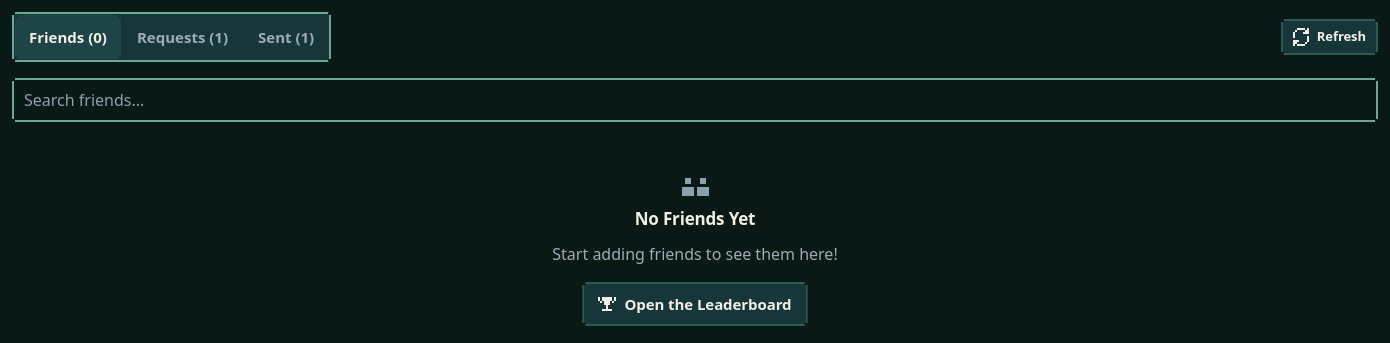
Test case: FriendsList actions › accept and decline only on requests to me; cancel only on requests from me
Click the button "Requests (1)" at (183, 37), box [123,15,242,59]
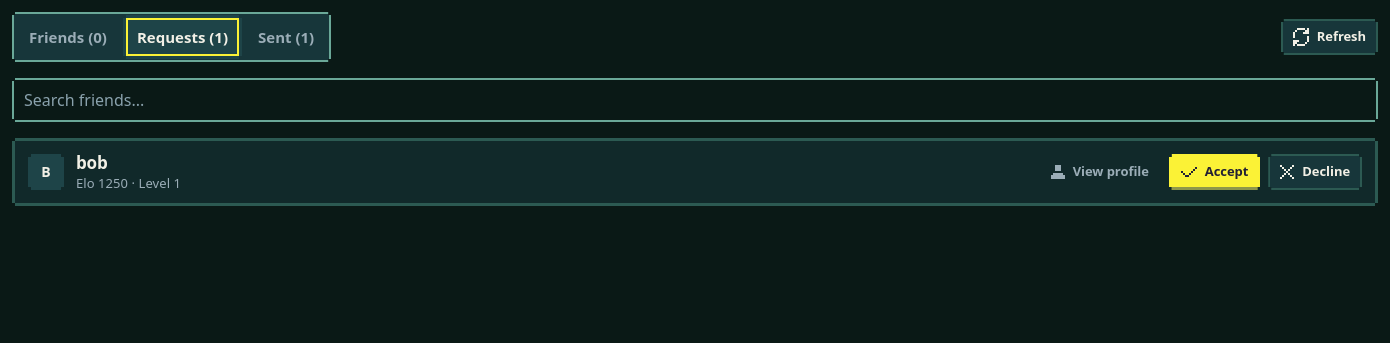
Expected: the text "bob" is shown, [76,151,108,174]
Expected: the button "Accept" is shown, [1169,150,1260,194]
Expected: the button "Decline" is shown, [1268,150,1362,194]
Click the button "Sent (1)" at (286, 37), box [244,15,328,59]
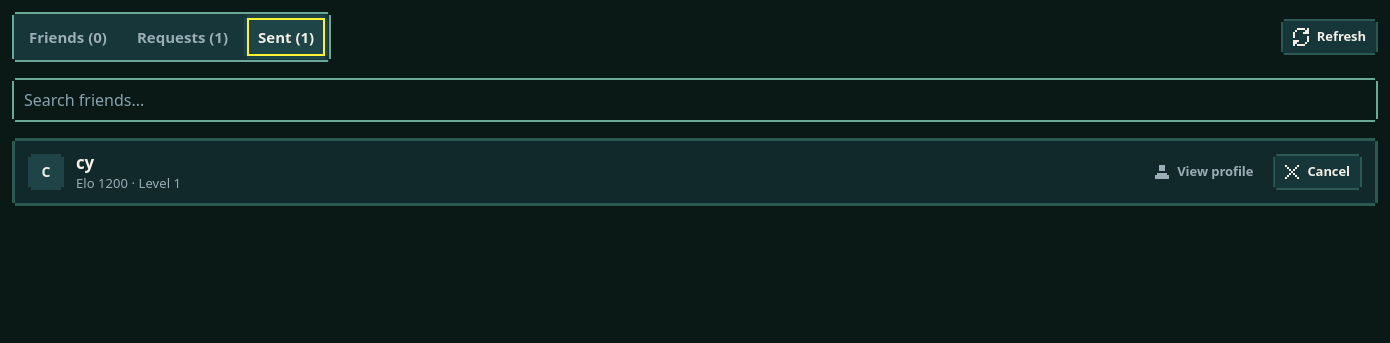
Expected: the text "cy" is shown, [76,151,94,174]
Expected: the text "bob" is gone
Expected: the button "Cancel" is shown, [1273,150,1362,194]
